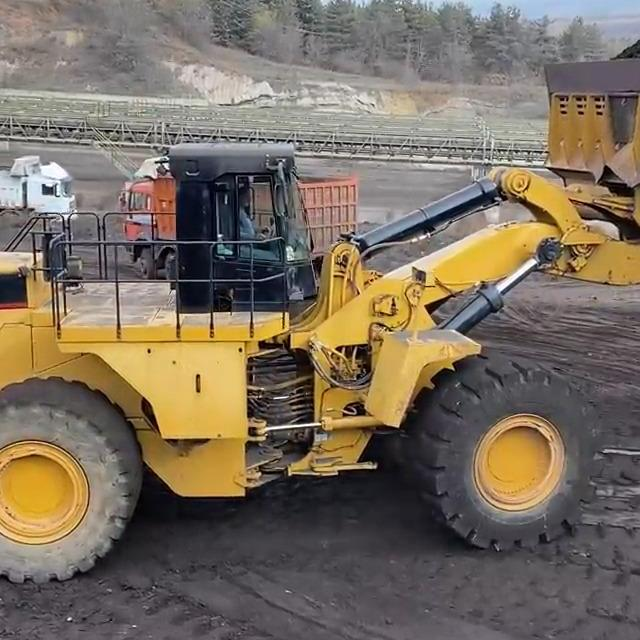NO-Hardhat: (236, 186, 251, 196)
NO-Mask: (239, 200, 252, 208)
NO-Safety Vest: (239, 210, 256, 240)
Person: (235, 184, 278, 256)
dump truck: (117, 149, 368, 280), (0, 150, 78, 229)
wheel loader: (0, 47, 640, 589)
